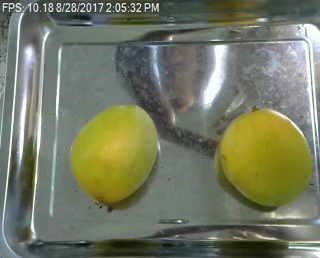Mango: (213, 103, 316, 211), (64, 98, 163, 205)
